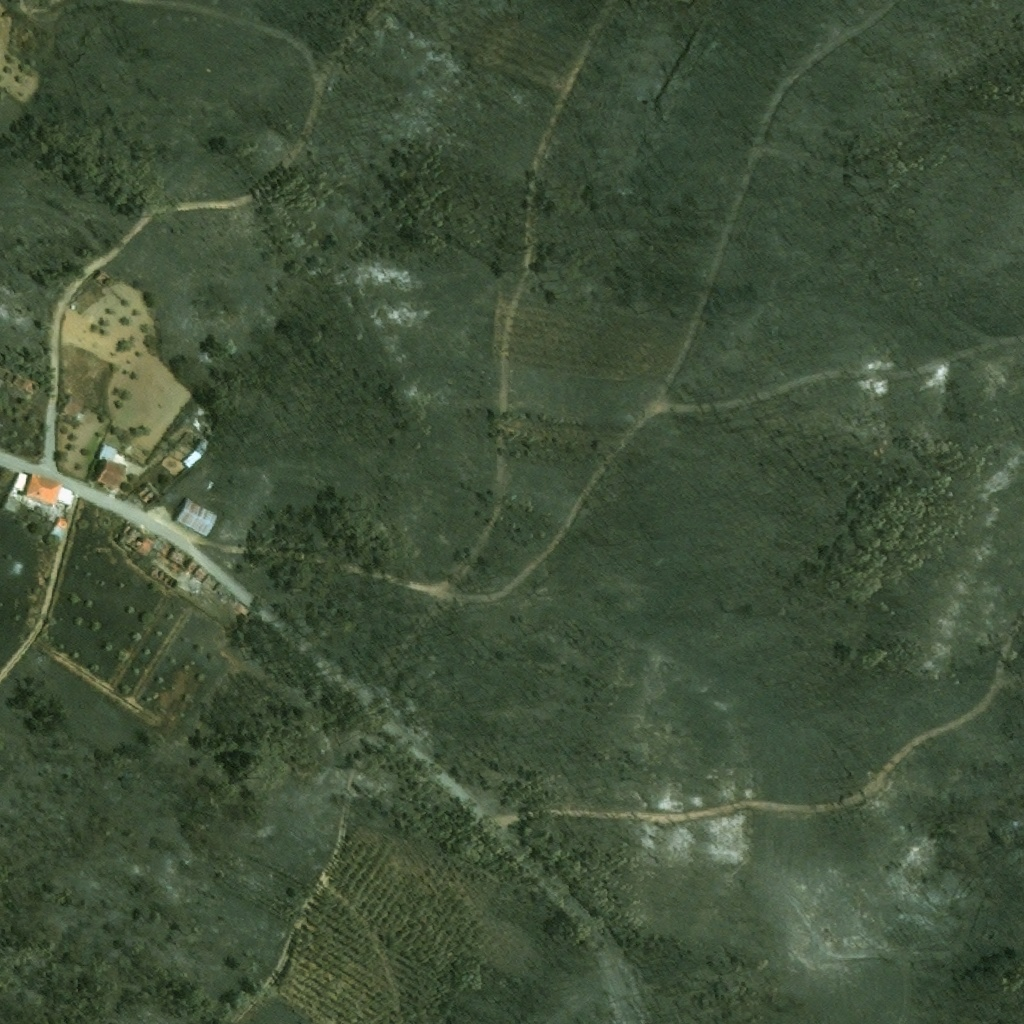0 no-damage: (25, 474, 75, 506), (176, 498, 217, 537), (96, 460, 126, 489), (98, 443, 126, 465), (62, 398, 85, 421), (9, 472, 28, 498), (50, 516, 71, 539), (195, 431, 215, 454), (181, 449, 203, 468)
3 destroyed: (121, 524, 211, 582), (150, 567, 180, 590), (137, 482, 161, 506), (236, 602, 254, 619), (94, 270, 111, 286)
